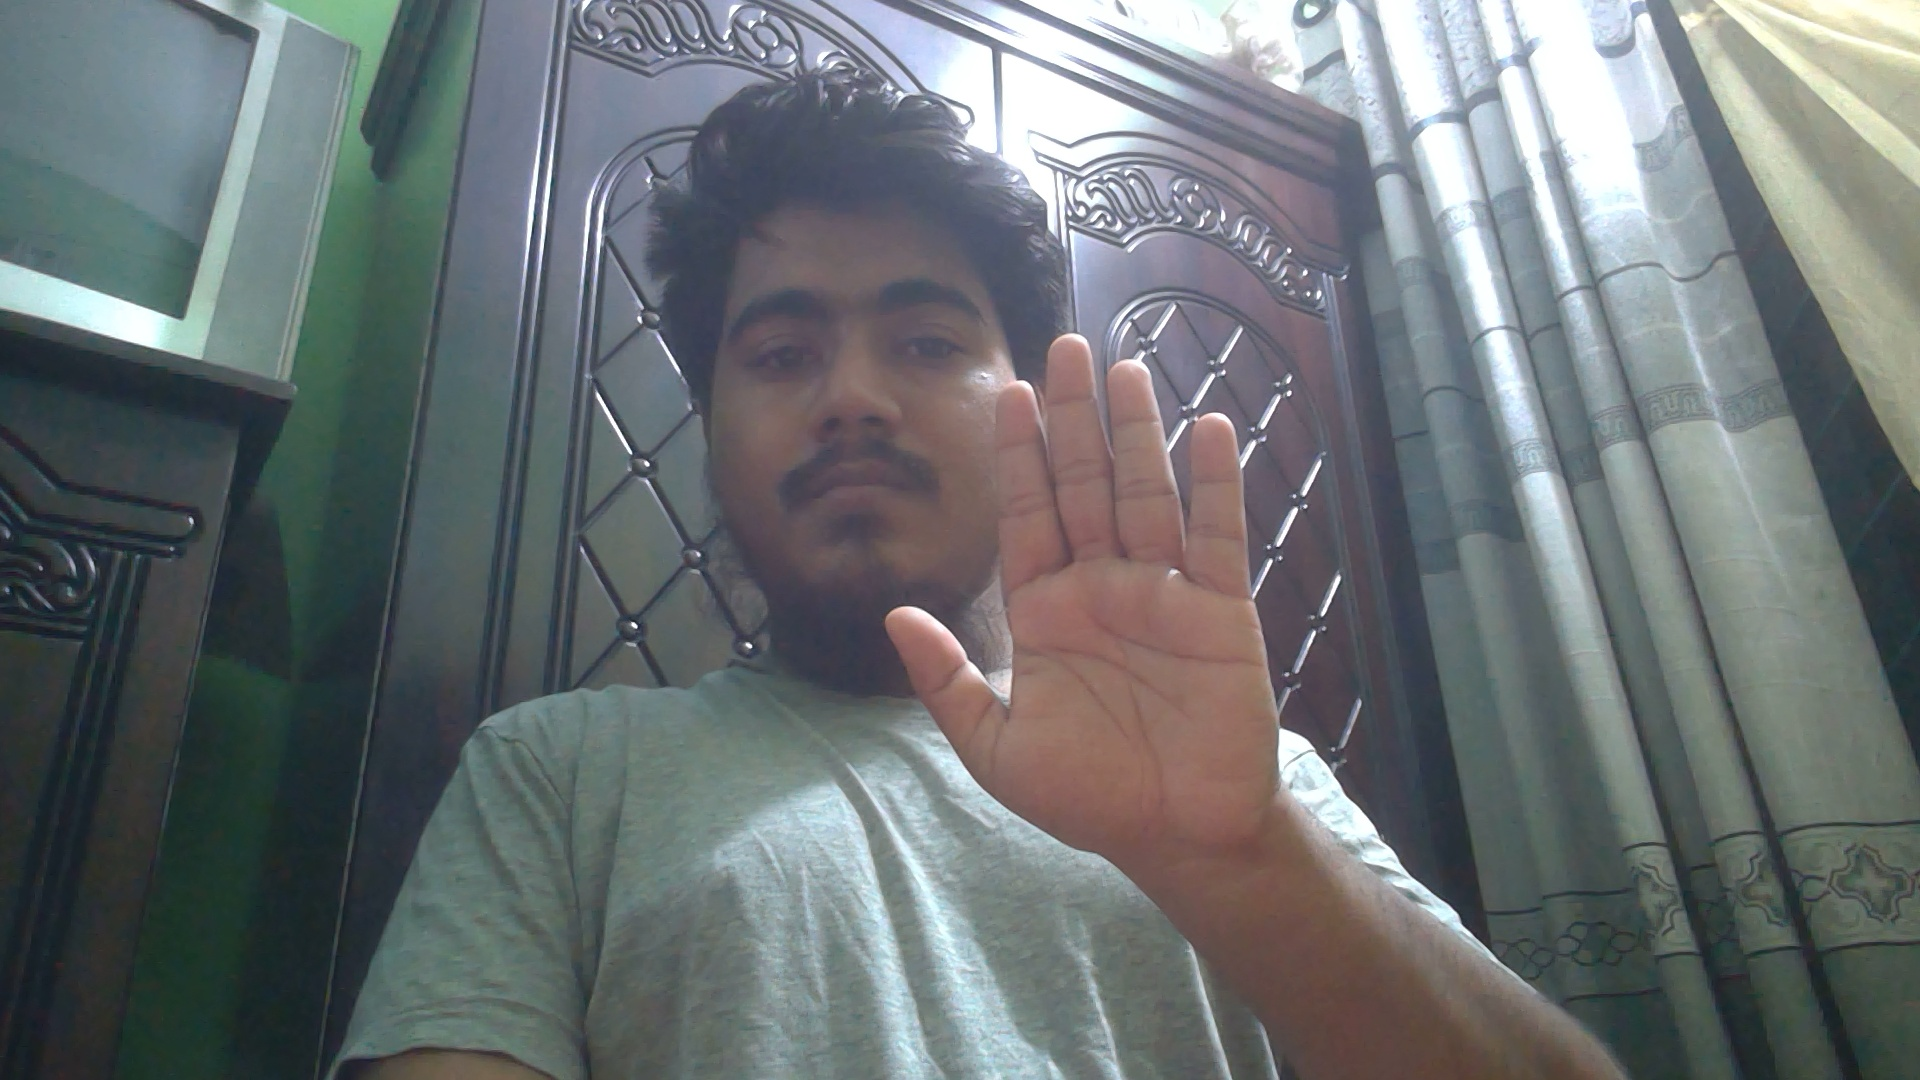Hello: (868, 326, 1292, 868)
